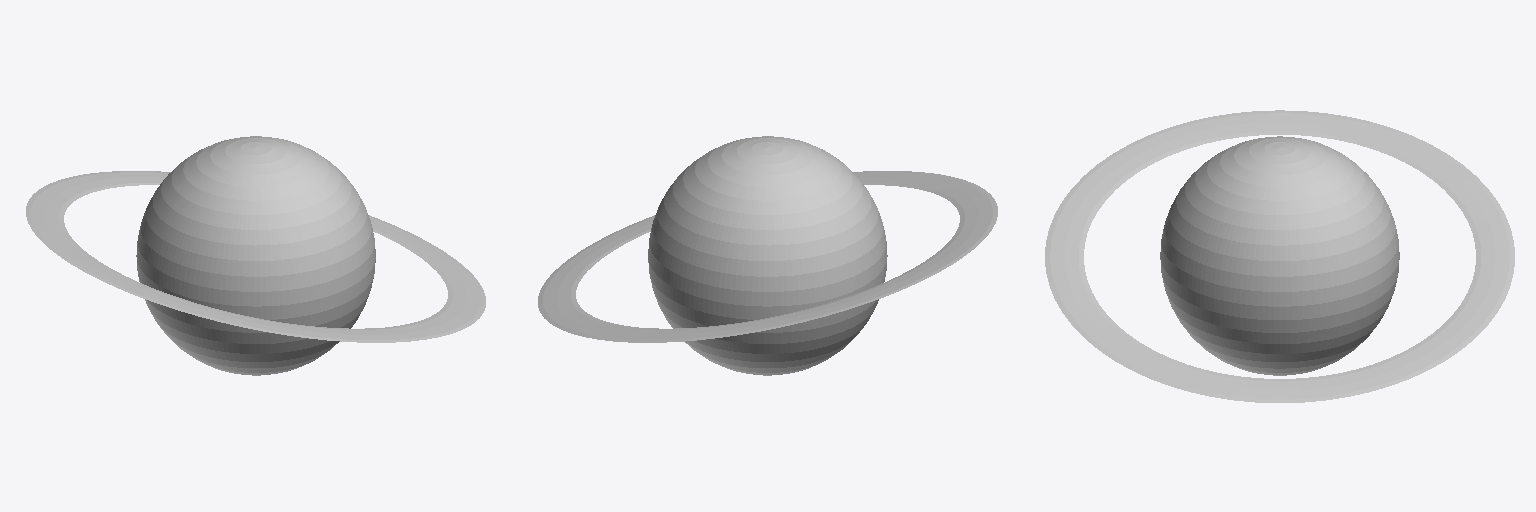
Rendered from saturn_2.obj.
3 views of the same model, side by side, from view 1: azimuth 30°, elevation 25°; view 2: azimuth 150°, elevation 25°; view 3: azimuth 270°, elevation 25° (orthographic).
Parts seen in each view (by area): view 1: Sphere_Material.002_0, Circle_ring_0; view 2: Sphere_Material.002_0, Circle_ring_0; view 3: Sphere_Material.002_0, Circle_ring_0.
Part boxes in pixels (bbox=[...]): Sphere_Material.002_0: bbox=[136, 136, 375, 375]; Circle_ring_0: bbox=[26, 171, 485, 342]; Sphere_Material.002_0: bbox=[648, 136, 887, 375]; Circle_ring_0: bbox=[538, 171, 997, 342]; Sphere_Material.002_0: bbox=[1160, 136, 1399, 375]; Circle_ring_0: bbox=[1045, 110, 1514, 402].
Bounding box in the file's own units: 382 × 200 × 393.